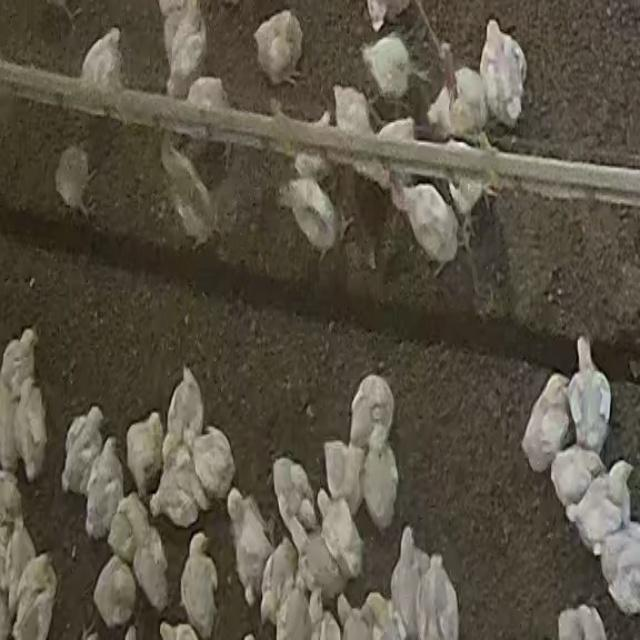chicken: (157, 141, 220, 245), (570, 458, 637, 546), (280, 178, 351, 260), (394, 178, 460, 266), (519, 374, 571, 473), (480, 18, 526, 129), (124, 502, 170, 612), (568, 335, 610, 452), (316, 489, 366, 575), (424, 67, 482, 140), (284, 521, 343, 591), (414, 551, 460, 640), (176, 531, 216, 632), (82, 438, 121, 541), (224, 494, 264, 594), (60, 406, 103, 496), (13, 555, 57, 640), (254, 7, 304, 81), (162, 5, 203, 94), (162, 370, 204, 454), (390, 530, 426, 628), (601, 525, 639, 617), (255, 541, 295, 628), (346, 375, 396, 444), (149, 465, 203, 527), (362, 430, 395, 531), (551, 447, 603, 510), (14, 379, 46, 478), (359, 37, 413, 95), (92, 554, 135, 625), (125, 412, 163, 492), (0, 325, 42, 394), (272, 454, 314, 523), (55, 144, 95, 215), (79, 28, 125, 88), (4, 514, 36, 599), (324, 441, 360, 508), (190, 436, 233, 490), (362, 592, 405, 640), (332, 81, 366, 141), (303, 592, 344, 640), (556, 601, 604, 640), (361, 0, 410, 33), (336, 595, 364, 640)
